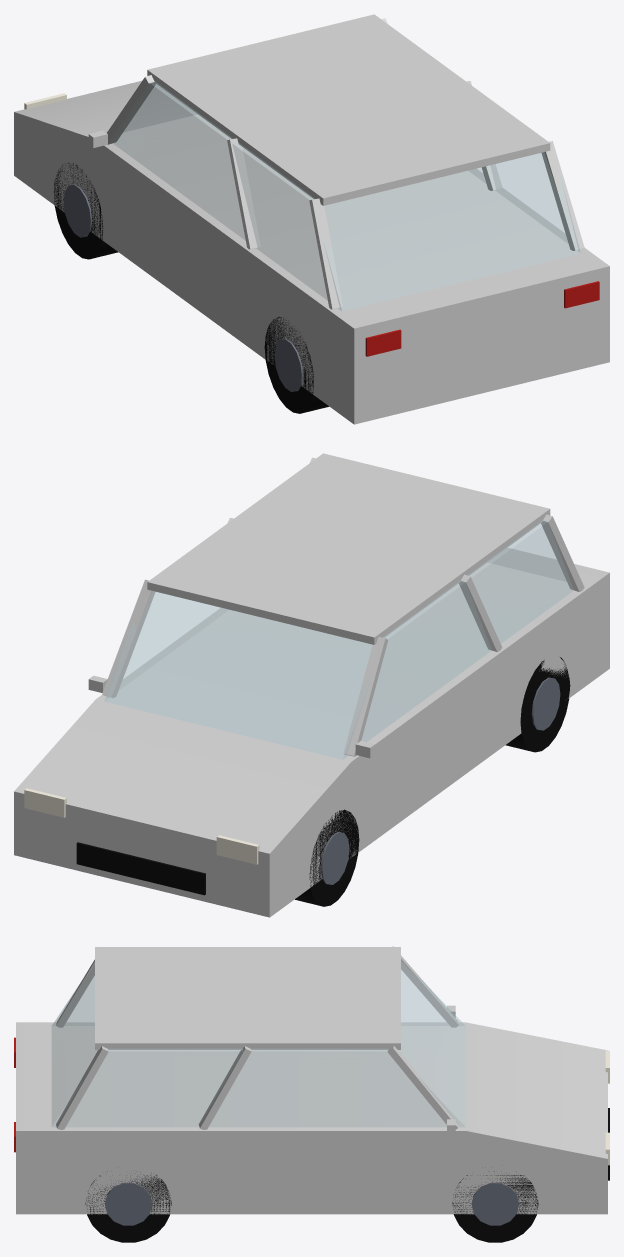
Rendered from vehicle.car.hatchback_white.glb.
3 views of the same model, one above another, from view 1: azimuth 30°, elevation 25°; view 2: azimuth 150°, elevation 25°; view 3: azimuth 270°, elevation 25° (orthographic). The views are drawn at different scales.
Parts seen in each view (by area): view 1: main__car_white, main__glass, main__rubber, main__steel_painted, main__hazard_red; view 2: main__car_white, main__glass, main__rubber, main__plastic_black, main__steel_painted, main__light_emitter; view 3: main__car_white, main__glass, main__rubber, main__steel_painted.
Part boxes in pixels (bbox=[...]): main__car_white: bbox=[14, 14, 609, 424]; main__glass: bbox=[113, 81, 580, 310]; main__rubber: bbox=[54, 163, 328, 413]; main__steel_painted: bbox=[63, 184, 303, 391]; main__hazard_red: bbox=[365, 281, 599, 356]; main__car_white: bbox=[14, 453, 609, 917]; main__glass: bbox=[104, 520, 573, 759]; main__rubber: bbox=[295, 657, 570, 906]; main__plastic_black: bbox=[76, 842, 205, 895]; main__steel_painted: bbox=[320, 677, 560, 884]; main__light_emitter: bbox=[24, 788, 259, 864]; main__car_white: bbox=[16, 946, 607, 1214]; main__glass: bbox=[52, 962, 465, 1126]; main__rubber: bbox=[85, 1171, 538, 1242]; main__steel_painted: bbox=[104, 1183, 519, 1225].
Bounding box in the file's own units: 1.96 × 1.48 × 4.13.
